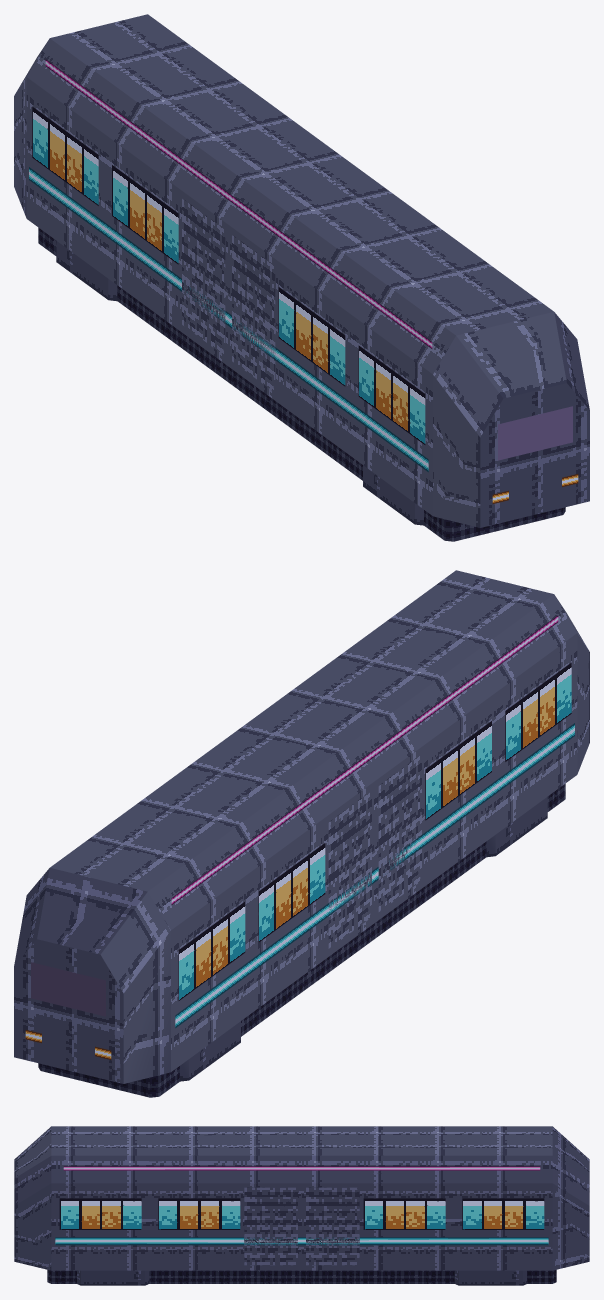
File: cyroom.train__carriage.glb
3 renders of one model, top to bottom at view 1: azimuth 30°, elevation 25°; view 2: azimuth 150°, elevation 25°; view 3: azimuth 270°, elevation 25°, orthographic. The views are drawn at different scales.
Visible parts, largest first — view 1: kit_body, kit_card_details; view 2: kit_body, kit_card_details; view 3: kit_body, kit_card_details.
Part boxes in pixels (x1,y1,x2,y2): kit_body: (14, 14, 589, 541); kit_card_details: (29, 59, 578, 503); kit_body: (14, 570, 589, 1097); kit_card_details: (25, 615, 574, 1059); kit_body: (14, 1126, 589, 1285); kit_card_details: (55, 1166, 548, 1265).
Bounding box in the file's own units: 2.54 × 3.35 × 14.02.
7 materials, 6 textured.
